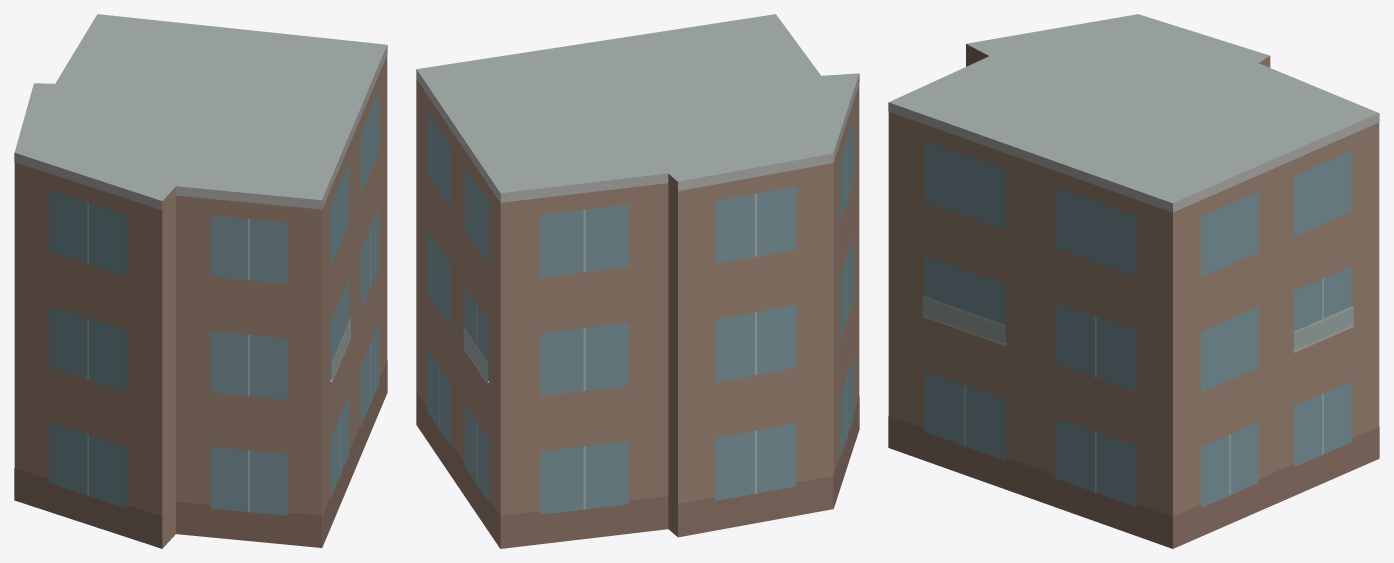
The model's file is survey-upis-32903385.glb.
3 views of the same model, side by side, from view 1: azimuth 30°, elevation 25°; view 2: azimuth 150°, elevation 25°; view 3: azimuth 270°, elevation 25° (orthographic). The views are drawn at different scales.
Parts seen in each view (by area): view 1: survey-upis-32903385.tmp; view 2: survey-upis-32903385.tmp; view 3: survey-upis-32903385.tmp.
Boxes of the visible parts, <box> form: survey-upis-32903385.tmp: <box>14,14,387,548</box>; survey-upis-32903385.tmp: <box>416,14,859,548</box>; survey-upis-32903385.tmp: <box>888,14,1379,548</box>.
Bounding box in the file's own units: 10.7 × 9.1 × 11.72.
